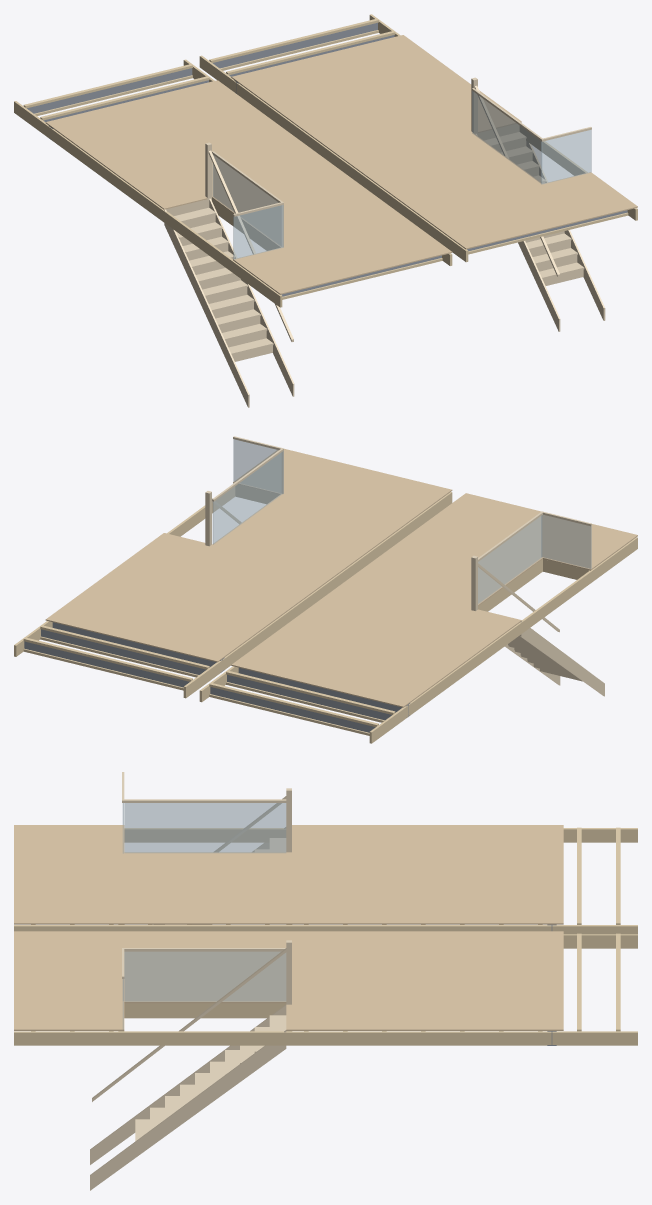
Rendered from stage-5-house.glb.
3 views of the same model, one above another, from view 1: azimuth 30°, elevation 25°; view 2: azimuth 150°, elevation 25°; view 3: azimuth 270°, elevation 25° (orthographic). The views are drawn at different scales.
Visible parts, largest first — view 1: Geom3D_ (×5); view 2: Geom3D_ (×5); view 3: Geom3D_ (×4).
Boxes of the visible parts, x1=… form: Geom3D_ (×5): x1=14, y1=14, x2=637, y2=407; Geom3D_ (×5): x1=14, y1=436, x2=637, y2=743; Geom3D_ (×4): x1=14, y1=772, x2=637, y2=1190.
Bounding box in the file's own units: 7.45 × 3.79 × 9.6.
